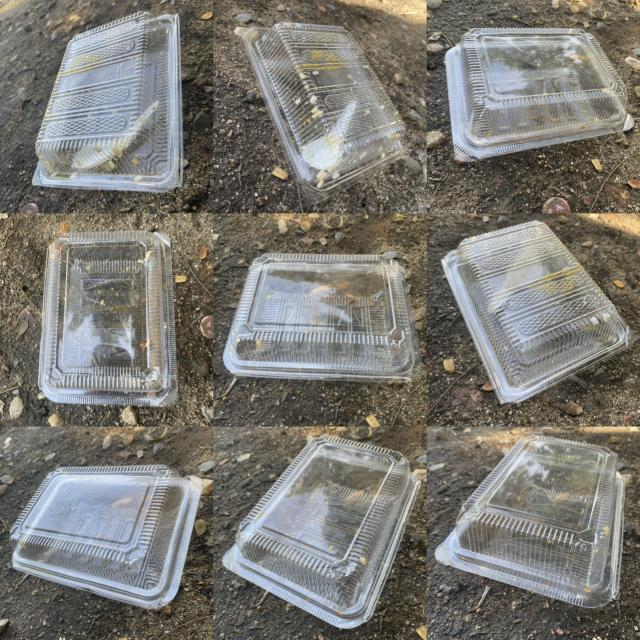Single-Use-Plastic: (222, 435, 420, 628), (441, 221, 635, 403), (435, 435, 625, 608), (242, 22, 405, 204), (32, 11, 184, 192), (10, 465, 201, 609), (224, 254, 421, 382), (445, 28, 634, 161), (38, 231, 178, 406)
